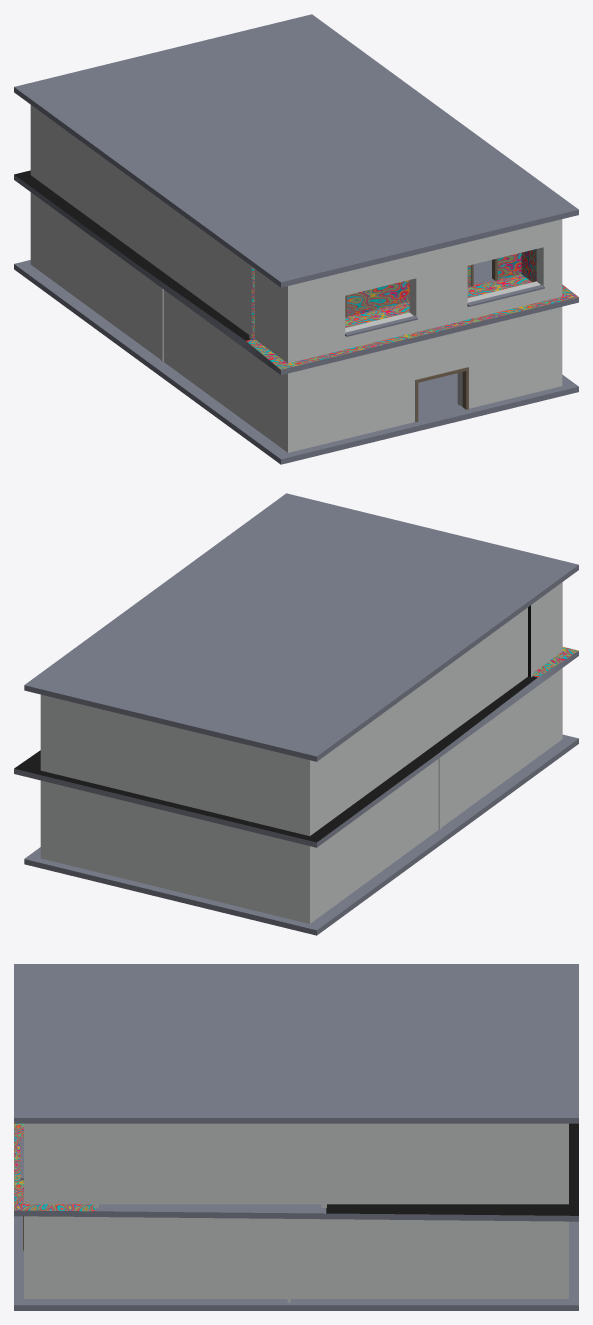
File: HopitalV04.fbx
The picture shows the model from 3 angles, top to bottom: view 1: azimuth 30°, elevation 25°; view 2: azimuth 150°, elevation 25°; view 3: azimuth 270°, elevation 25°; orthographic projection. The views are drawn at different scales.
Parts seen in each view (by area): view 1: SM_BatHopital; view 2: SM_BatHopital; view 3: SM_BatHopital.
Boxes of the visible parts, left/top/right/bottom form: SM_BatHopital: left=14, top=14, right=578, bottom=464; SM_BatHopital: left=14, top=493, right=578, bottom=935; SM_BatHopital: left=14, top=964, right=578, bottom=1310.
Bounding box in the file's own units: 311 × 176 × 467.
